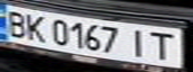0: (45, 16, 69, 47)
1: (66, 19, 84, 49)
6: (81, 21, 103, 53)
7: (100, 24, 124, 55)
B: (0, 8, 30, 38)
I: (124, 26, 151, 59)
K: (21, 11, 48, 43)
T: (145, 29, 181, 61)
